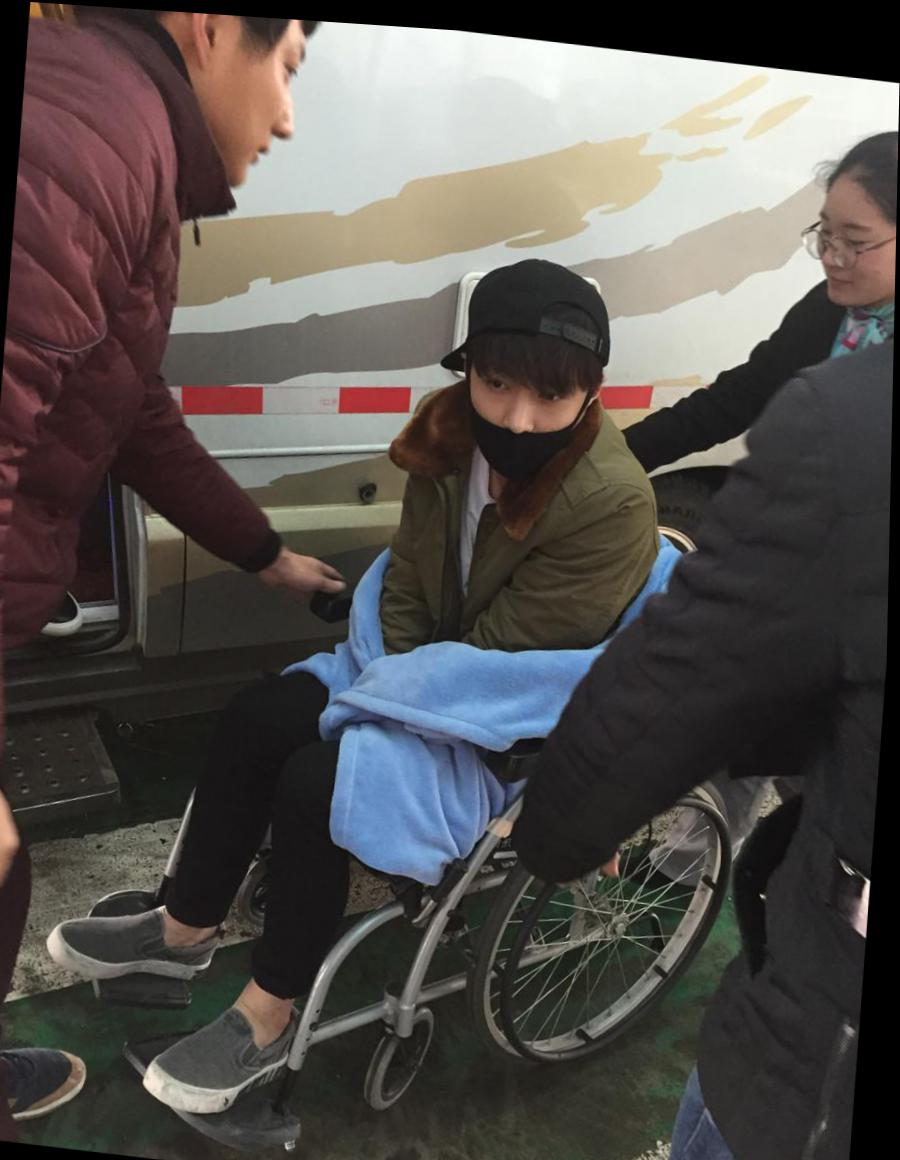NONE: (159, 12, 320, 195), (806, 181, 898, 300)
WRONG: (466, 348, 584, 470)
